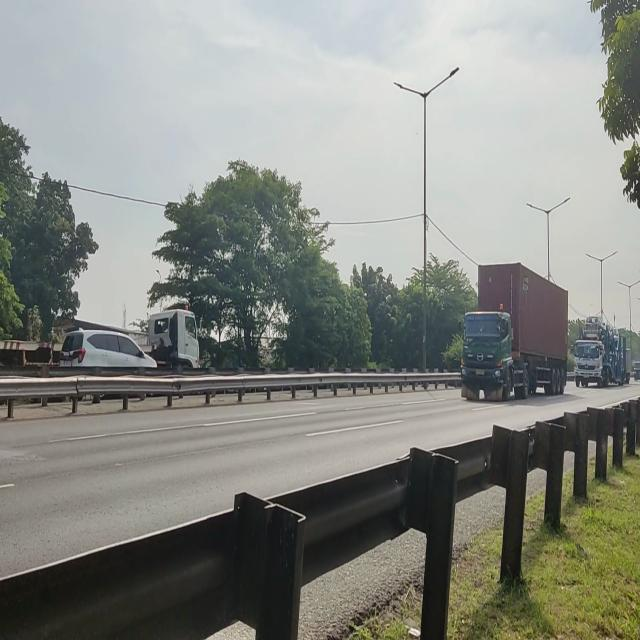Golongan V: (457, 265, 569, 408)
